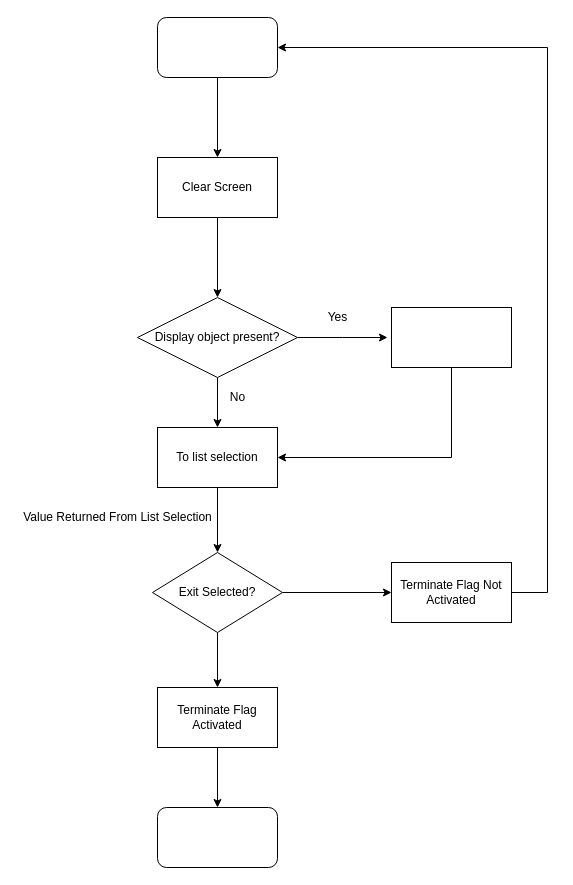
This 573x885 diagram has some shape labels left out. Here are the shapes that lost their labels. From the top down, the centre of each, then its label:
the point at 217,47: Loop Start
the point at 451,337: Print Display Object
the point at 217,837: Loop End
